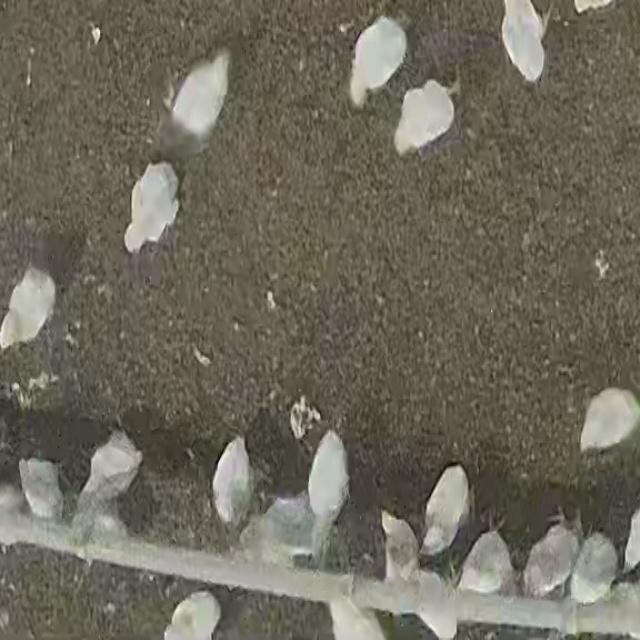chicken: (172, 46, 235, 144), (347, 14, 408, 107), (124, 160, 181, 255), (393, 77, 462, 152), (0, 264, 58, 350), (422, 464, 471, 557), (79, 436, 141, 506), (578, 388, 640, 456), (522, 521, 576, 598), (307, 430, 350, 524), (457, 526, 514, 596), (499, 0, 547, 83), (211, 435, 252, 529), (569, 533, 617, 604), (377, 508, 419, 585), (17, 456, 64, 520)
